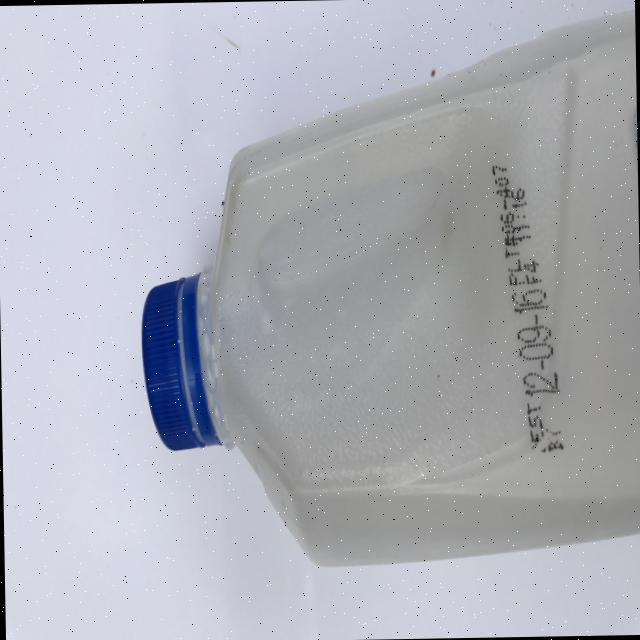plastic: (135, 9, 640, 571)
